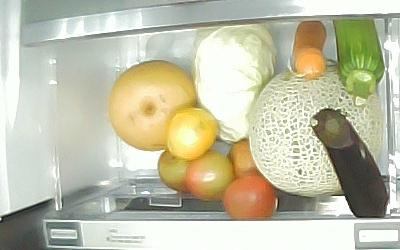cabbage: (193, 23, 279, 145)
carrot: (290, 20, 330, 78)
eggplant: (310, 106, 388, 218)
melon: (250, 64, 385, 198)
pear: (107, 61, 197, 152)
prune: (185, 151, 234, 202), (157, 150, 196, 195), (227, 139, 262, 177)
tangerine: (167, 108, 220, 161)
tomato: (224, 175, 279, 221)
zucchini: (331, 19, 386, 103)
